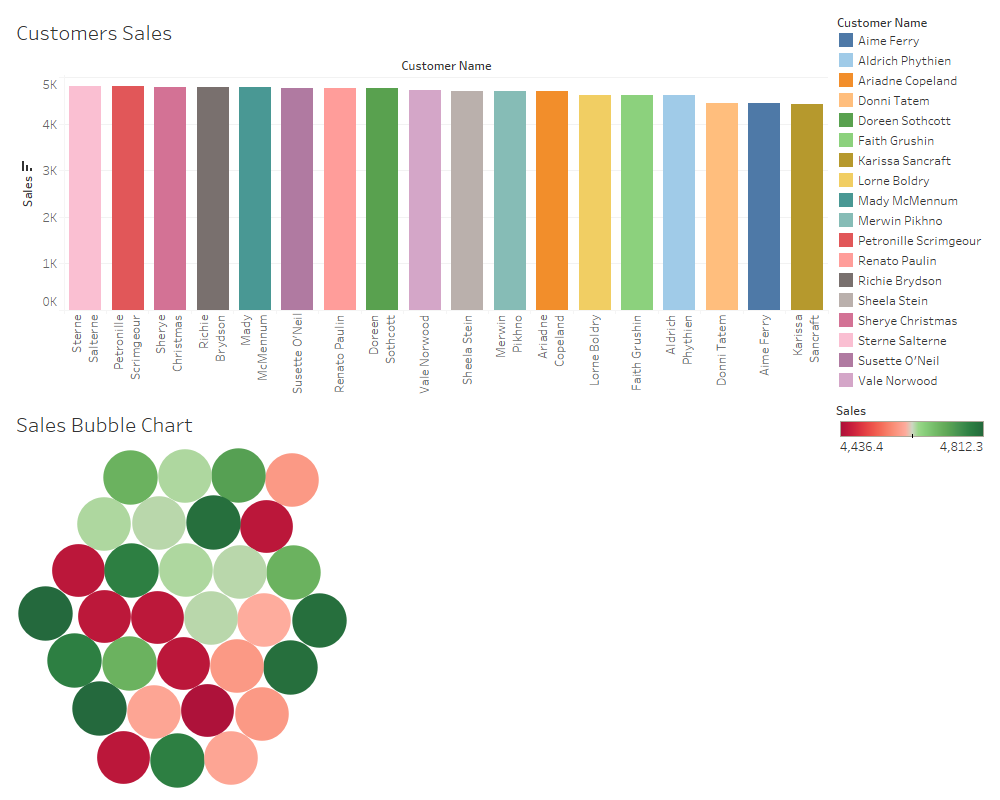

What the dashboard file says about the page in this screenshot:
{"tool":"tableau","page":{"name":"Dashboard 1","canvas":[1000,800],"ordinal":0},"visuals":[{"type":"worksheet","title":"Customers Sales","mark":"Automatic","rows":["Sales"],"cols":["Customer Name"],"box":[8,8,824,392]},{"type":"legend","title":"Customers Sales","param":"[federated.0vpu3cq1k88yqy15okly41w3qpqx].[none:Customer Name:nk]","box":[832,8,160,386]},{"type":"legend","title":"Sales Bubble Chart","param":"[federated.0vpu3cq1k88yqy15okly41w3qpqx].[sum:Sales:qk]","box":[832,394,160,65]},{"type":"worksheet","title":"Sales Bubble Chart","mark":"Circle","box":[8,400,824,392]}]}

Visuals, with their boxes in screenshot pixels (x1, y1, x2, y2), scaled from the page's 1000x800 canvas onto the 1000x800 screenshot:
"Customers Sales" worksheet: pyautogui.locateOnScreen(8, 8, 832, 400)
"Customers Sales" legend: pyautogui.locateOnScreen(832, 8, 992, 394)
"Sales Bubble Chart" legend: pyautogui.locateOnScreen(832, 394, 992, 459)
"Sales Bubble Chart" worksheet (Circle marks): pyautogui.locateOnScreen(8, 400, 832, 792)
